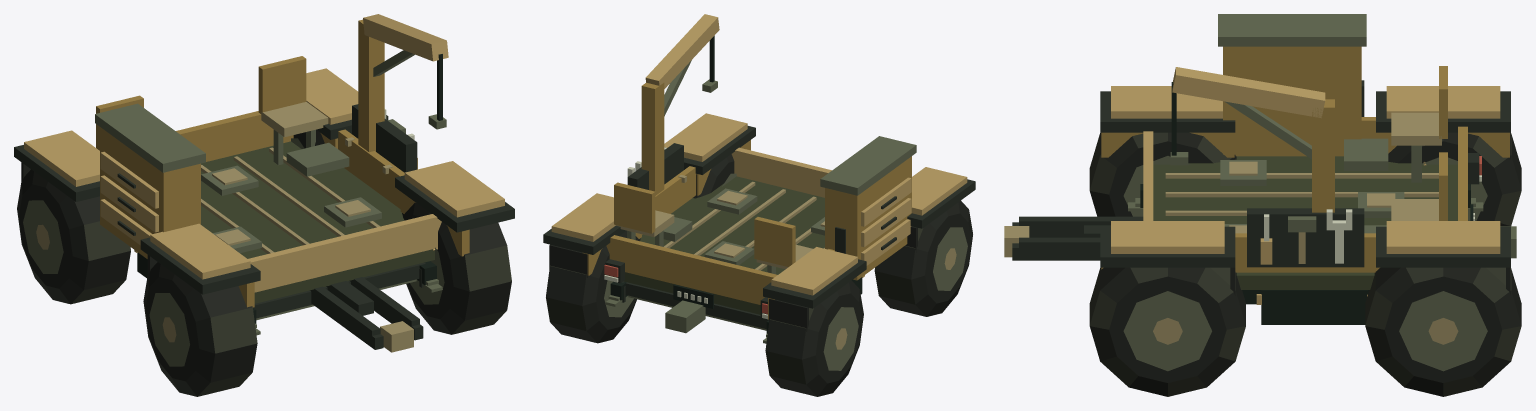
Rendered from military_wagon_repair.glb.
3 renders of one model, left to right at view 1: azimuth 30°, elevation 25°; view 2: azimuth 150°, elevation 25°; view 3: azimuth 270°, elevation 25°, orthographic. The views are drawn at different scales.
Visible parts, largest first — view 1: WagonDeck.001, WagonDetails_repair, AllTerrainTire.004, AllTerrainTire.006, AllTerrainTire.005, DrawbarFrame.001; view 2: WagonDeck.001, WagonDetails_repair, AllTerrainTire.006, AllTerrainTire.004, AllTerrainTire.007, AllTerrainTire.005; view 3: WagonDeck.001, WagonDetails_repair, AllTerrainTire.005, AllTerrainTire.007, AllTerrainTire.004, AllTerrainTire.006, DrawbarFrame.001.
Part boxes in pixels (left/top/right/bottom): WagonDeck.001: left=14, top=56, right=514, bottom=339; WagonDetails_repair: left=95, top=14, right=448, bottom=258; AllTerrainTire.004: left=143, top=262, right=257, bottom=396; AllTerrainTire.006: left=17, top=169, right=130, bottom=304; AllTerrainTire.005: left=402, top=202, right=511, bottom=334; DrawbarFrame.001: left=311, top=282, right=423, bottom=352; WagonDeck.001: left=543, top=113, right=975, bottom=343; WagonDetails_repair: left=627, top=14, right=916, bottom=280; AllTerrainTire.006: left=765, top=280, right=863, bottom=396; AllTerrainTire.004: left=874, top=200, right=972, bottom=316; AllTerrainTire.007: left=546, top=231, right=640, bottom=343; AllTerrainTire.005: left=693, top=154, right=736, bottom=198; WagonDeck.001: left=1019, top=66, right=1516, bottom=324; WagonDetails_repair: left=1170, top=14, right=1366, bottom=272; AllTerrainTire.005: left=1089, top=267, right=1245, bottom=396; AllTerrainTire.007: left=1365, top=267, right=1521, bottom=396; AllTerrainTire.004: left=1089, top=132, right=1236, bottom=216; AllTerrainTire.006: left=1388, top=132, right=1521, bottom=226; DrawbarFrame.001: left=1004, top=222, right=1100, bottom=260.
Bounding box in the file's own units: 4.48 × 3.83 × 5.82.
2 materials, 2 textured.
